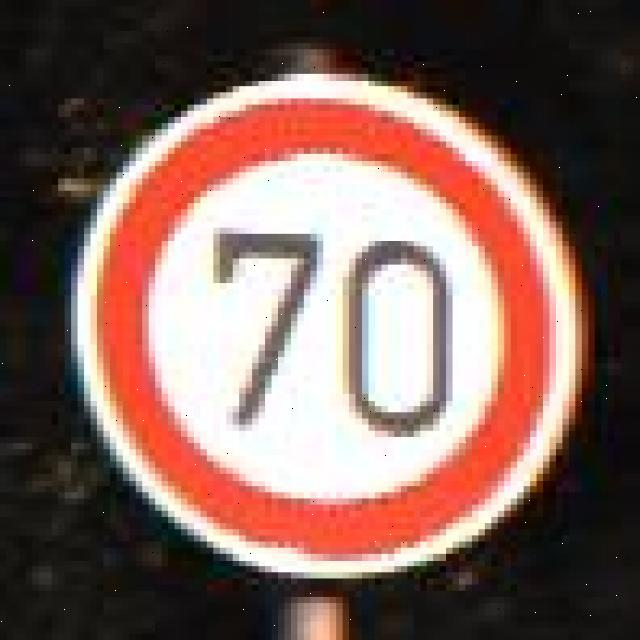speed limit 70: (73, 72, 592, 583)
